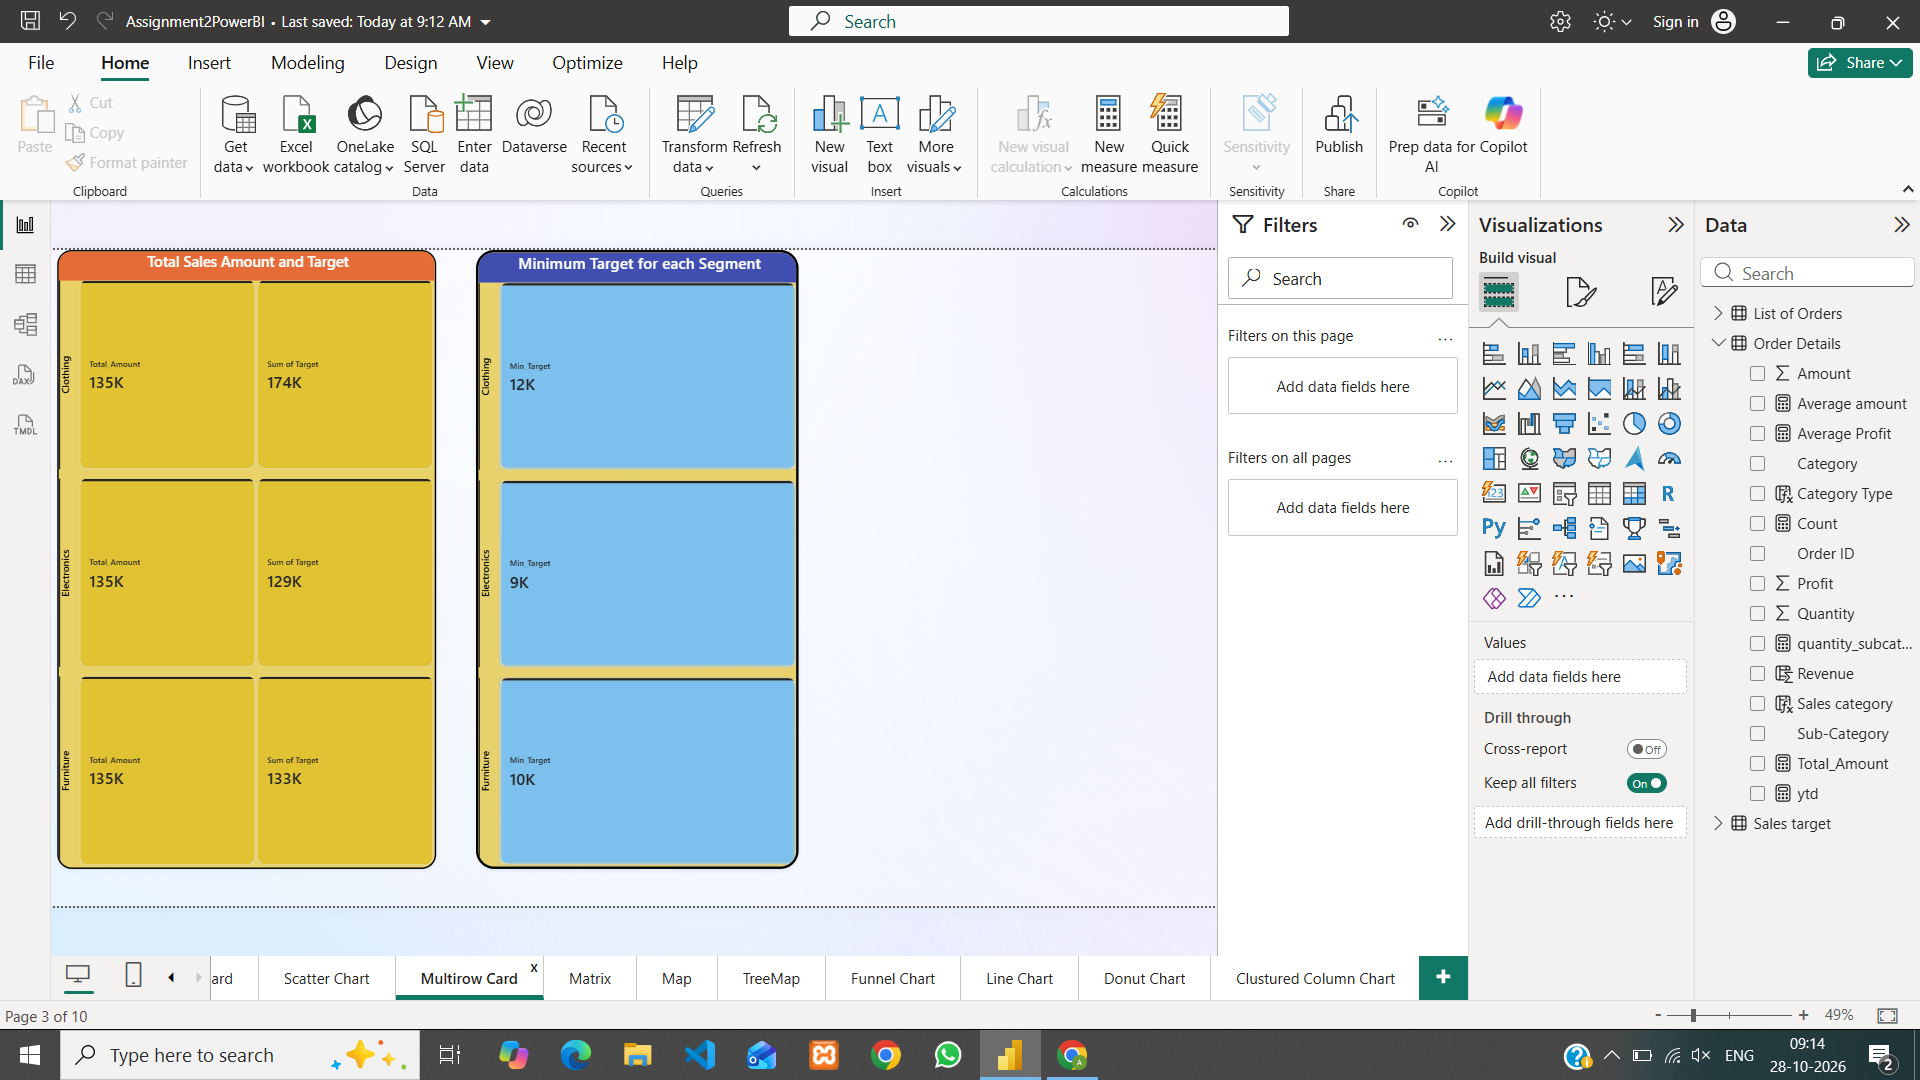

Layout of this report page (visuals, bound fields, positions):
{"tool":"powerbi","page":{"name":"Multirow Card","canvas":[1920,1080],"ordinal":2},"visuals":[{"type":"cardVisual","title":"Total Sales Amount and Target","fields":{"Data":["Order Details.Total_Amount","Sum(Sales target.Target)"],"Rows":["Sales target.Category"]},"box":[10.3,0,623.7,1018.9],"z":0},{"type":"cardVisual","title":"Minimum Target for each Segment","fields":{"Data":["Sales target.Min_Target"],"Rows":["Sales target.Category"]},"box":[699.8,0,531,1018.9],"z":1000}]}

Visuals, with their boxes on the page's 1920x1080 design canvas (x1, y1, x2, y2). These are canvas units, not pixel positions in the 1920x1080 screenshot, which may show the page scaled, cropped or inside an application window:
"Total Sales Amount and Target" cardVisual: {"x1": 10, "y1": 0, "x2": 634, "y2": 1019}
"Minimum Target for each Segment" cardVisual: {"x1": 700, "y1": 0, "x2": 1231, "y2": 1019}
